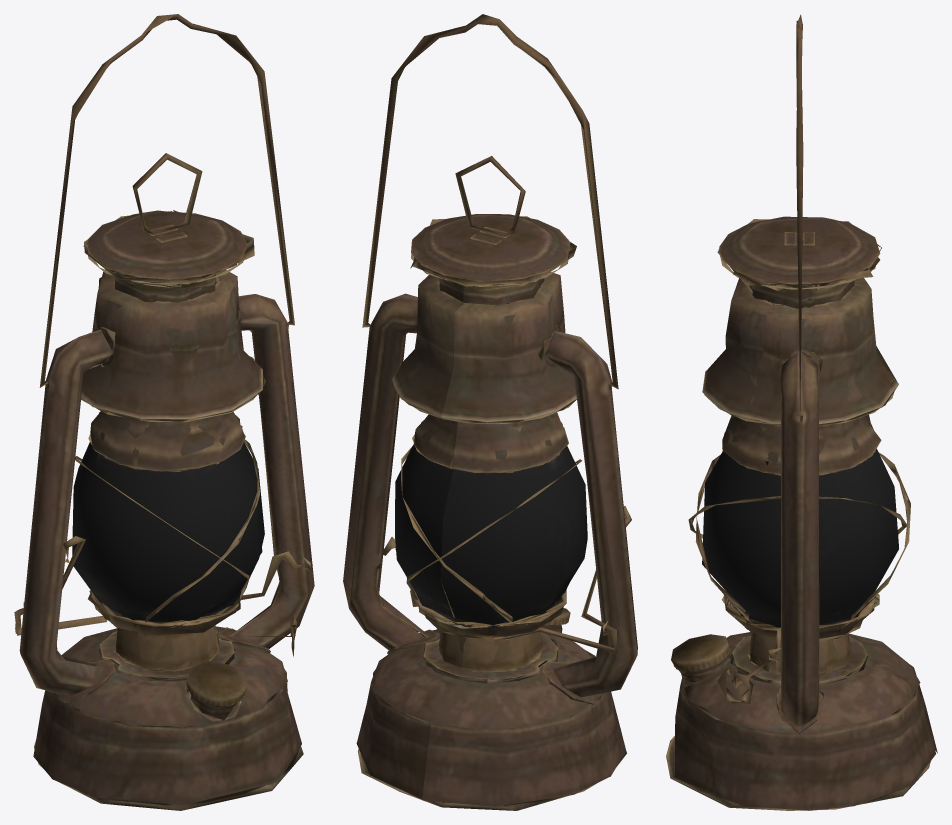
File: Lantern_01_1k.gltf.lod.glb
3 renders of one model, left to right at view 1: azimuth 30°, elevation 25°; view 2: azimuth 150°, elevation 25°; view 3: azimuth 270°, elevation 25°, orthographic.
Parts seen in each view (by area): view 1: Lantern_01, Lantern_01_glass; view 2: Lantern_01, Lantern_01_glass; view 3: Lantern_01, Lantern_01_glass.
Part boxes in pixels (box(x1,y1,x2,y2)): Lantern_01: box(14, 14, 314, 810); Lantern_01_glass: box(72, 425, 264, 626); Lantern_01: box(343, 14, 637, 810); Lantern_01_glass: box(395, 418, 587, 630); Lantern_01: box(666, 14, 937, 810); Lantern_01_glass: box(702, 429, 898, 627).
Bounding box in the file's own units: 0.1224 × 0.294 × 0.0979.
Materials: 2 (2 with a texture image).
